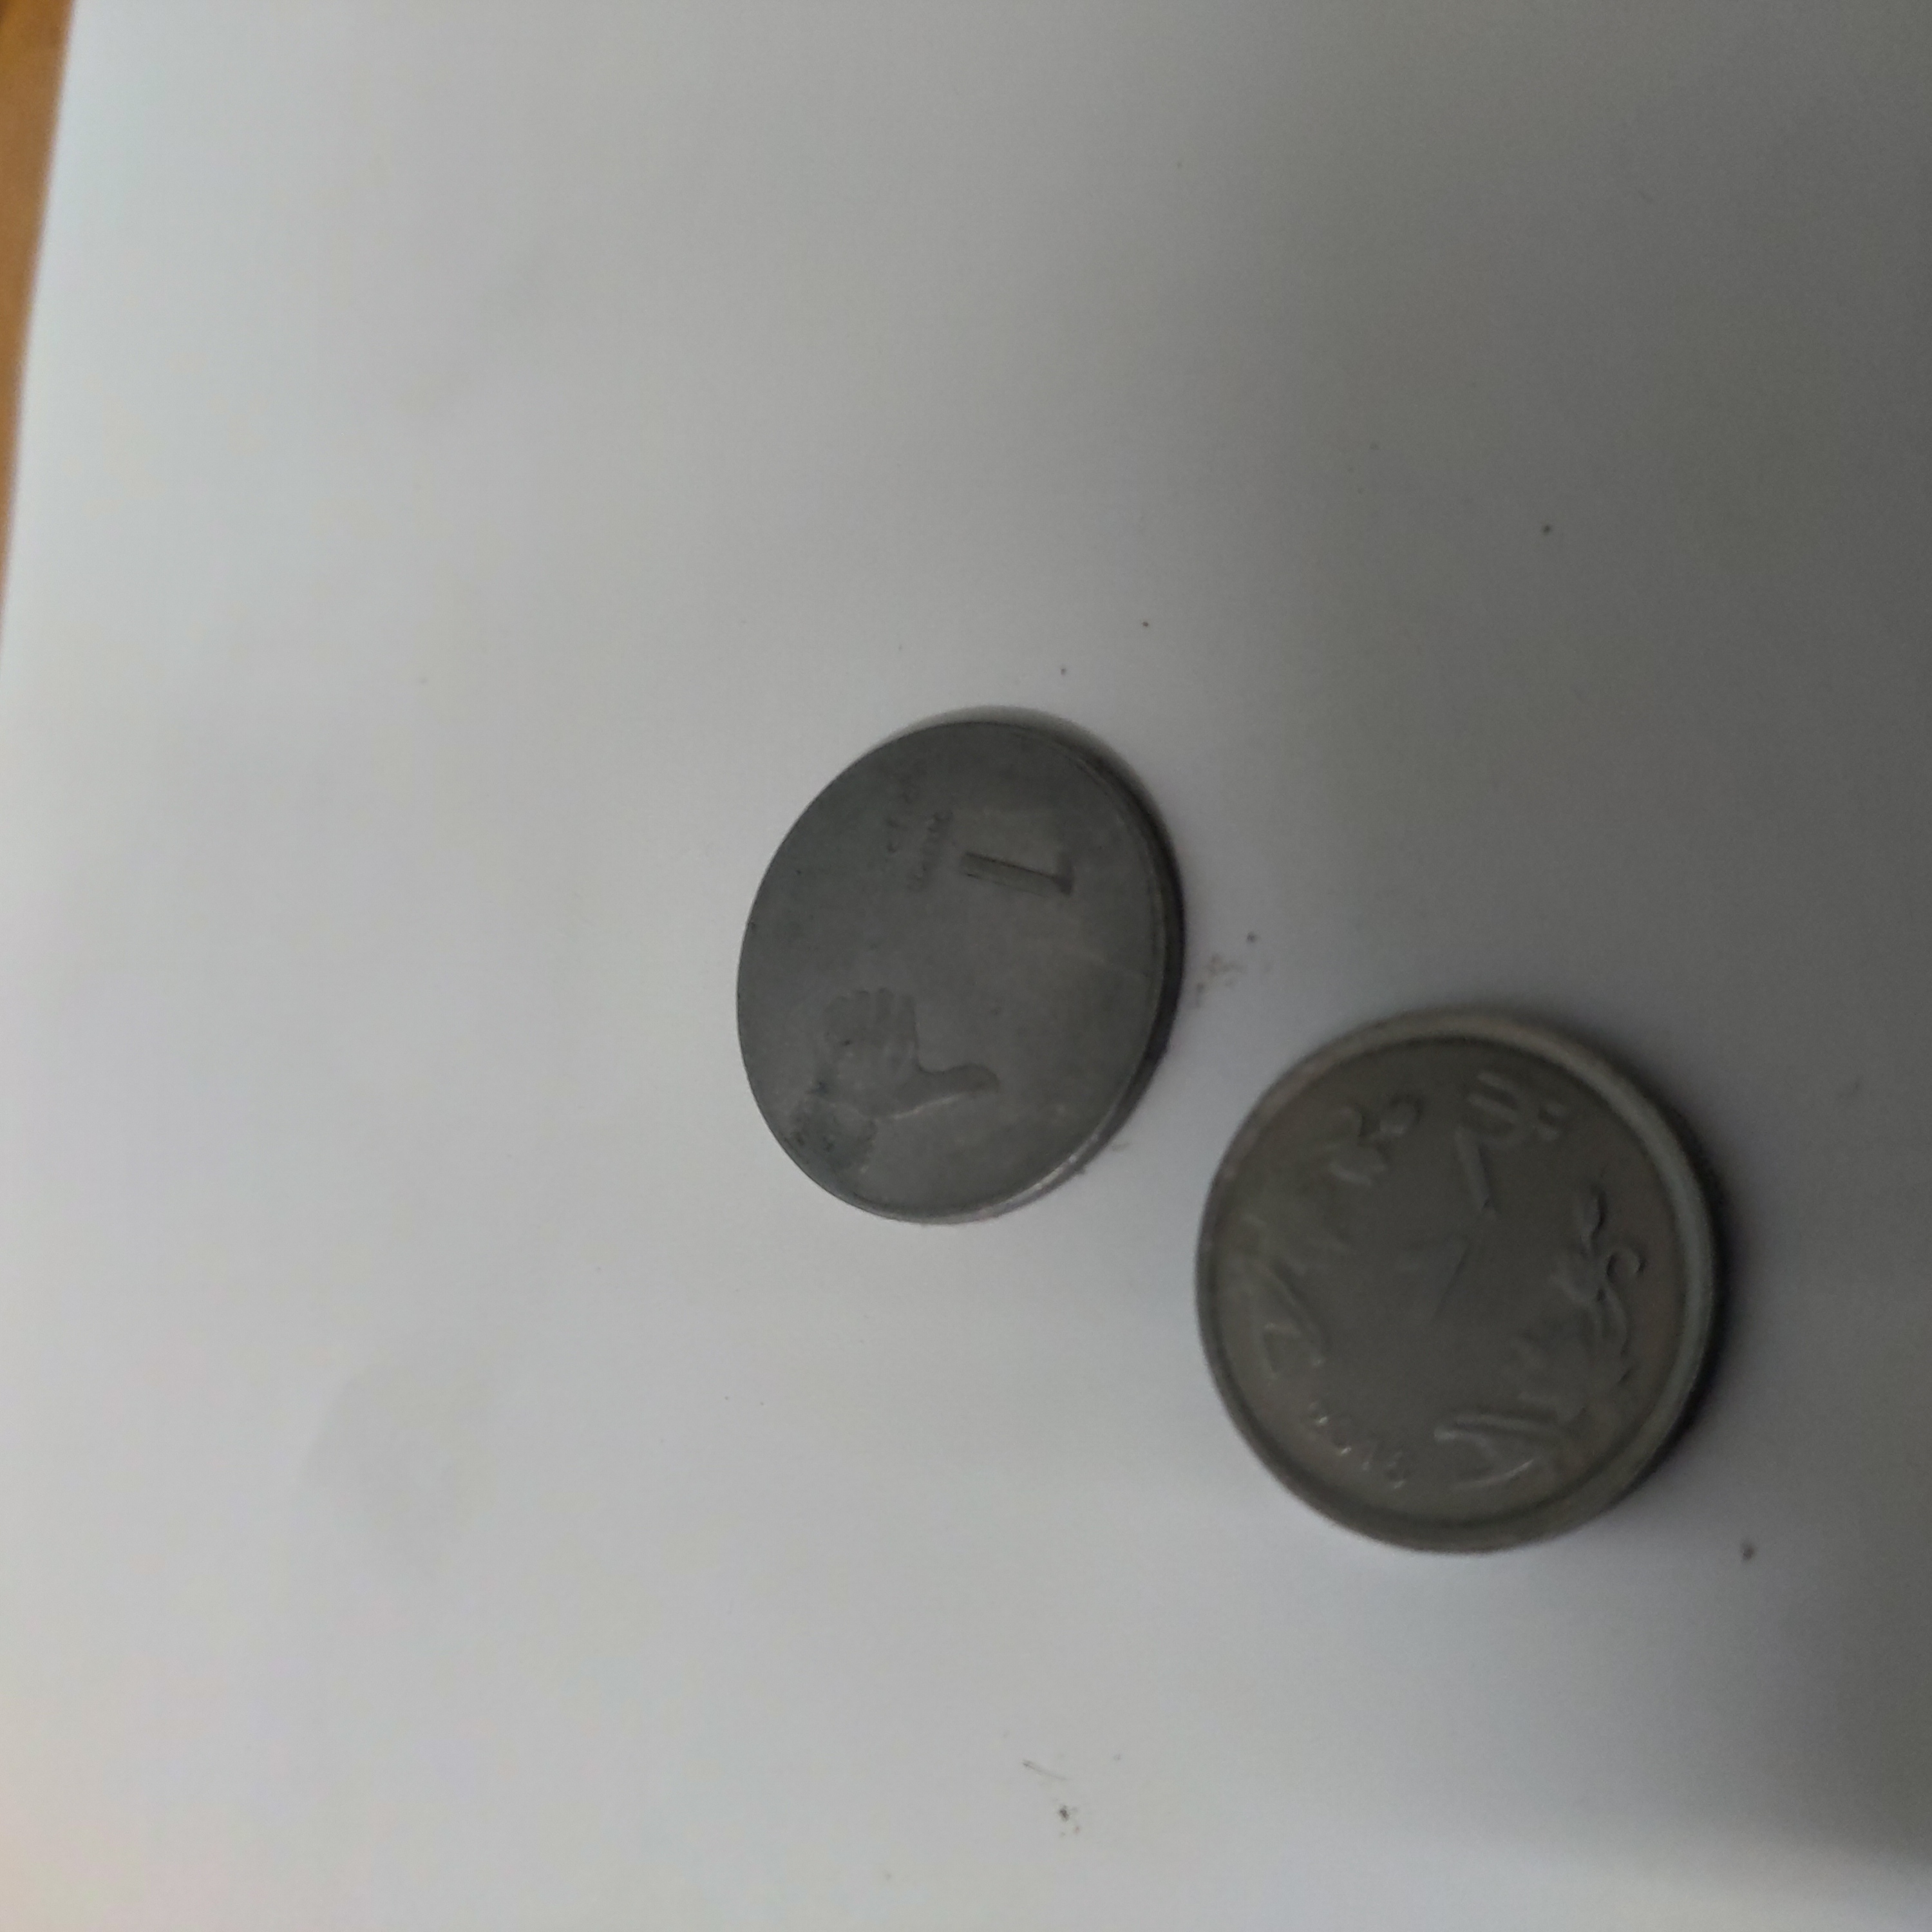coin: (1191, 1007, 1758, 1564), (678, 683, 1197, 1244)
